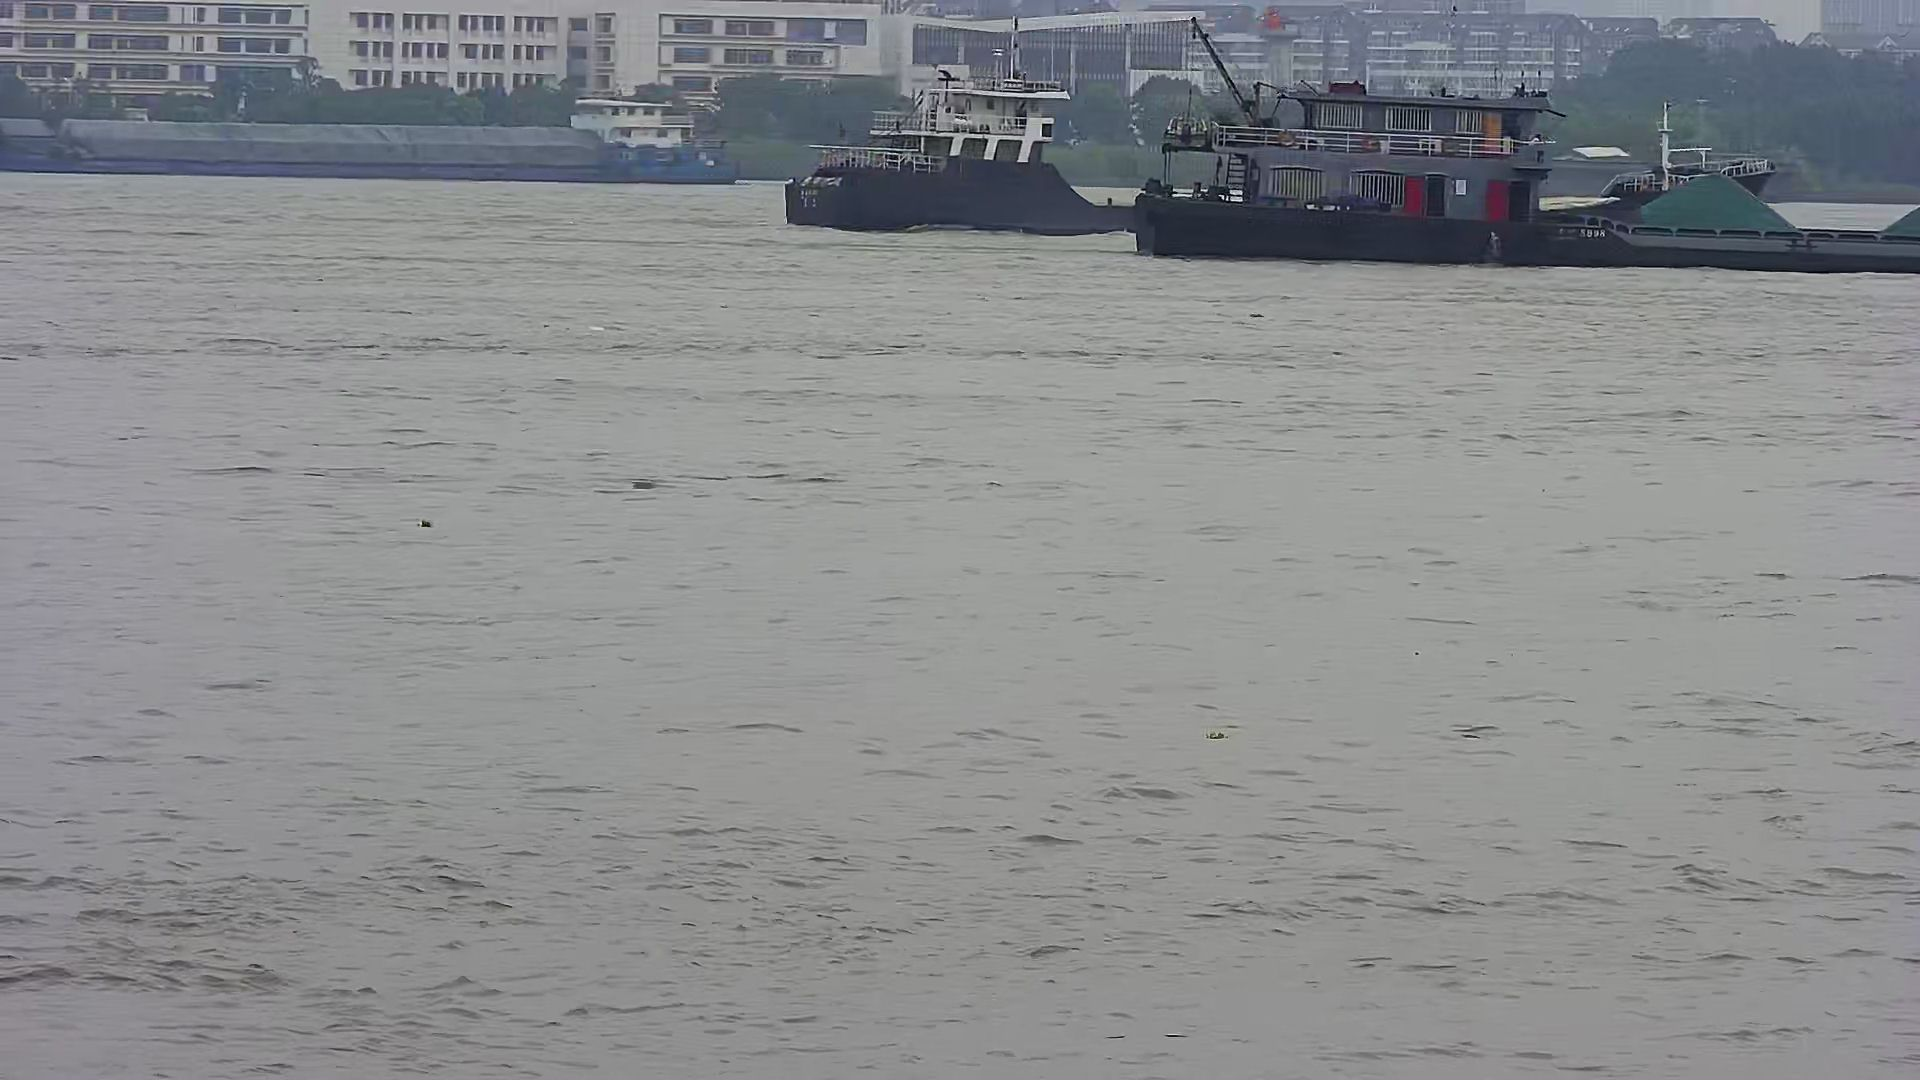ship: (1127, 8, 1920, 272), (1, 80, 760, 190), (778, 61, 1139, 241), (1598, 94, 1788, 208)
